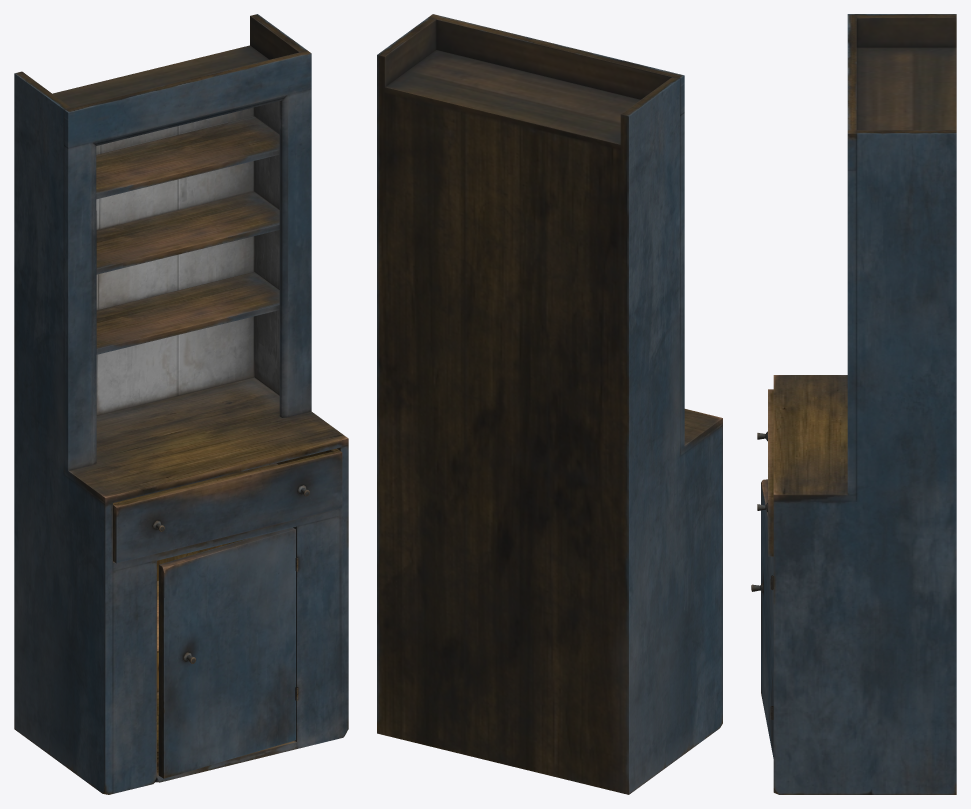
Rendered from painted_wooden_cabinet_02_lod1.glb.
The picture shows the model from 3 angles, left to right: view 1: azimuth 30°, elevation 25°; view 2: azimuth 150°, elevation 25°; view 3: azimuth 270°, elevation 25°; orthographic projection. The views are drawn at different scales.
Parts seen in each view (by area): view 1: painted_wooden_cabinet_02, painted_wooden_cabinet_02_door, painted_wooden_cabinet_02_drawer; view 2: painted_wooden_cabinet_02; view 3: painted_wooden_cabinet_02, painted_wooden_cabinet_02_door, painted_wooden_cabinet_02_drawer.
Part boxes in pixels (<box>): painted_wooden_cabinet_02: <box>14,14,348,794</box>; painted_wooden_cabinet_02_door: <box>158,527,295,778</box>; painted_wooden_cabinet_02_drawer: <box>113,448,342,563</box>; painted_wooden_cabinet_02: <box>377,14,722,794</box>; painted_wooden_cabinet_02: <box>770,14,956,794</box>; painted_wooden_cabinet_02_door: <box>751,479,773,758</box>; painted_wooden_cabinet_02_drawer: <box>757,389,773,556</box>.
Bounding box in the file's own units: 0.9969 × 2.57 × 0.7223.
1 material, 1 textured.
